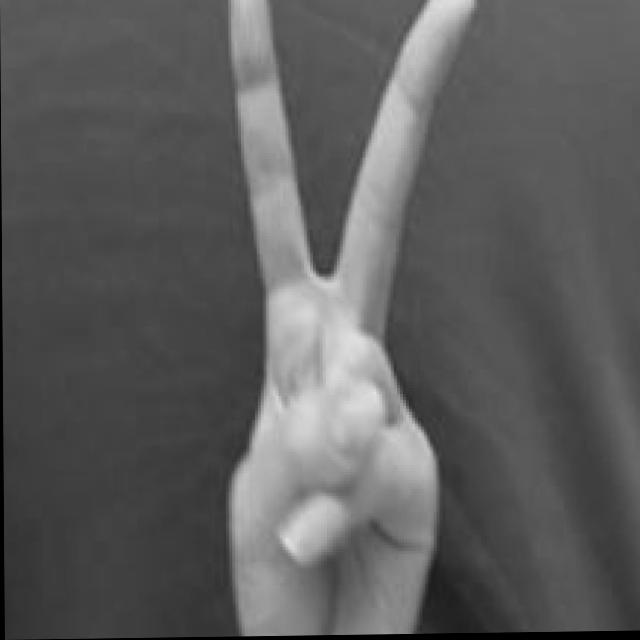V: (219, 0, 479, 637)
